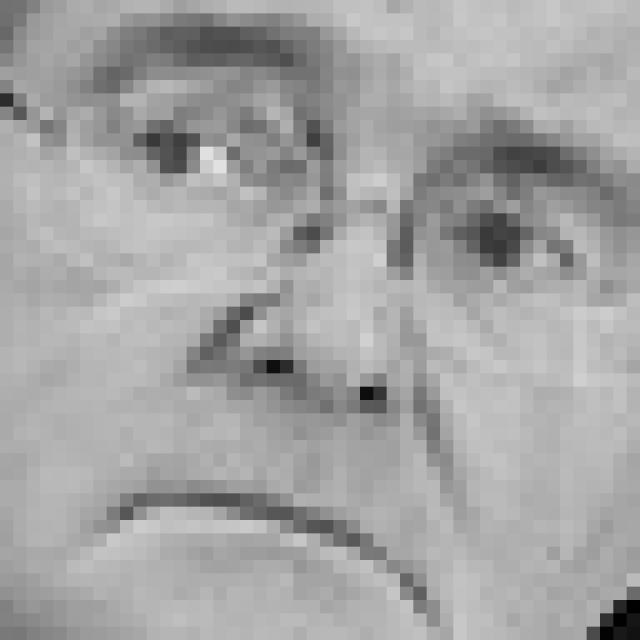sad: (49, 5, 603, 640)
